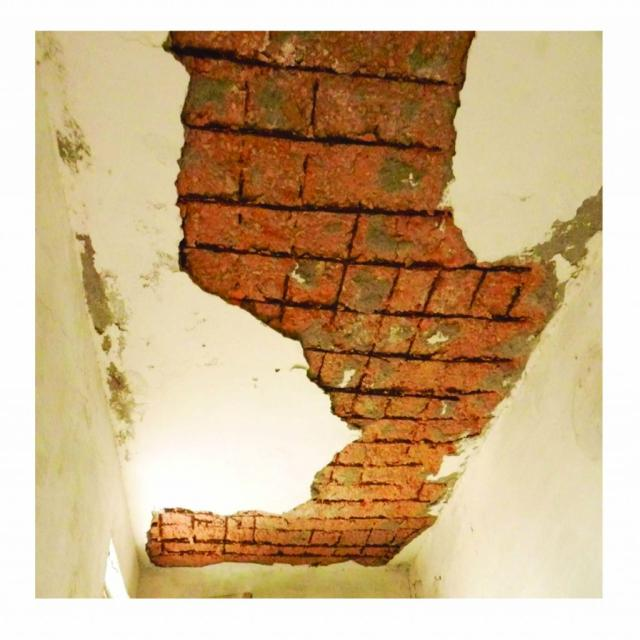Spalling: (123, 28, 582, 598)
